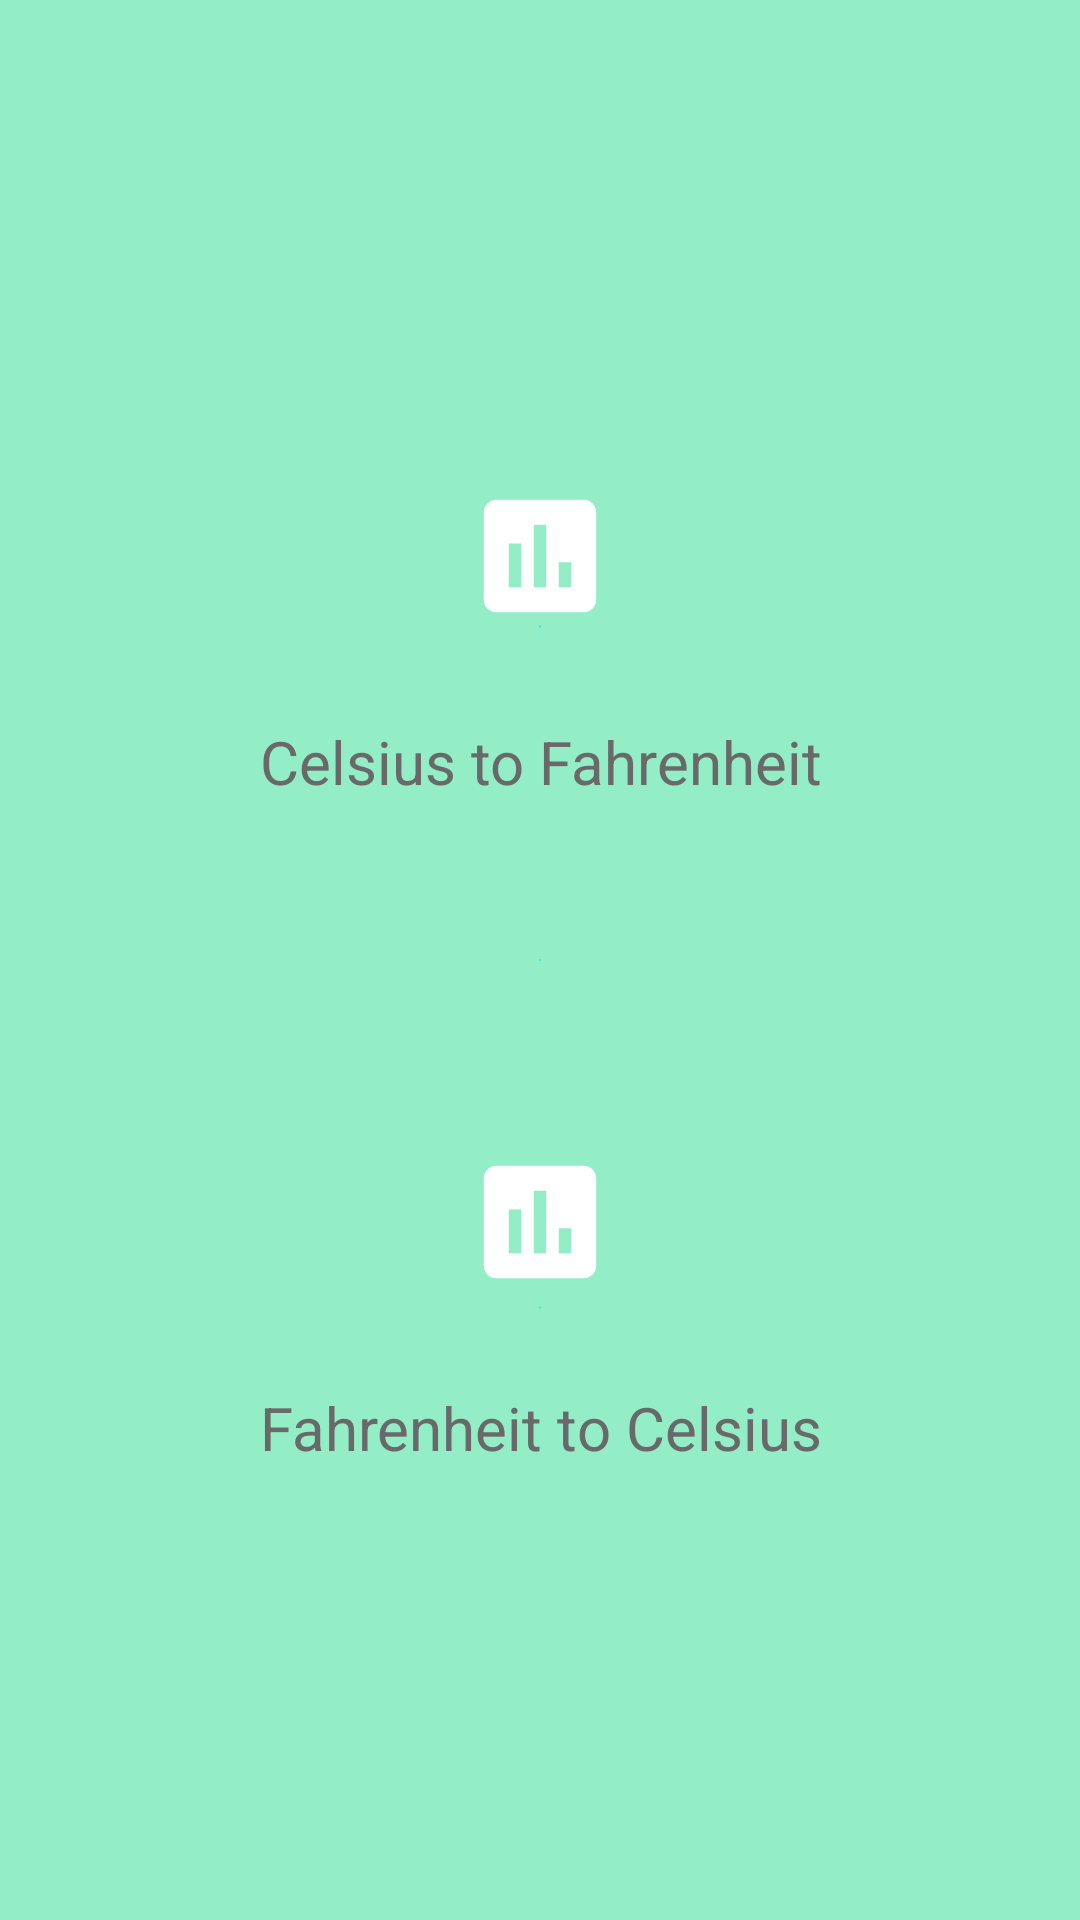

Screen size 1080×1920. Icon name, then its center in pixels as (x,y):
assessment: (540,563), (540,1222)
